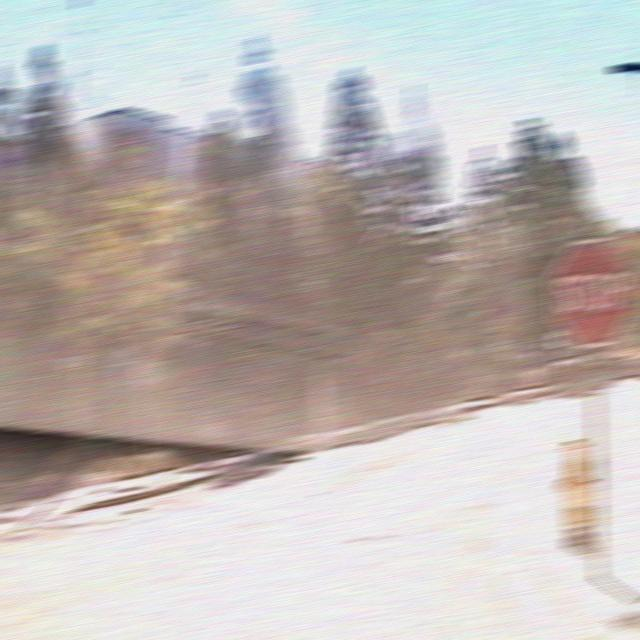stop: (548, 238, 636, 346)
